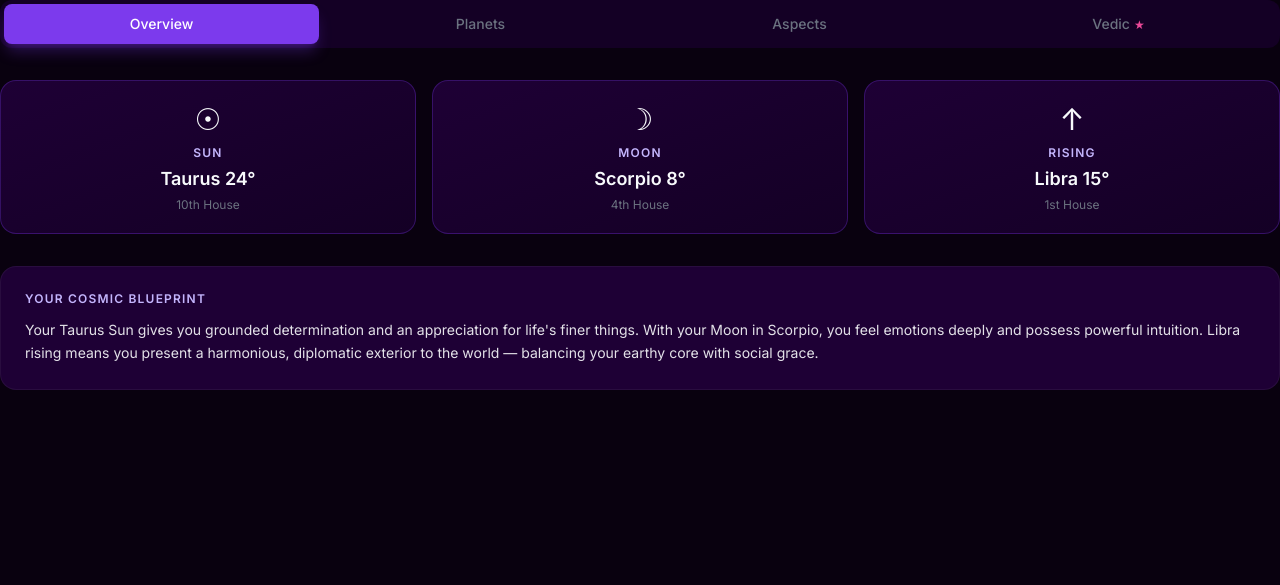
Scenario: ChartTabs › switches to Aspects tab and shows all aspect rows
The width and height of the screenshot is (1280, 585).
Click the tab "Aspects".
click(800, 24)  # box [642, 4, 957, 44]
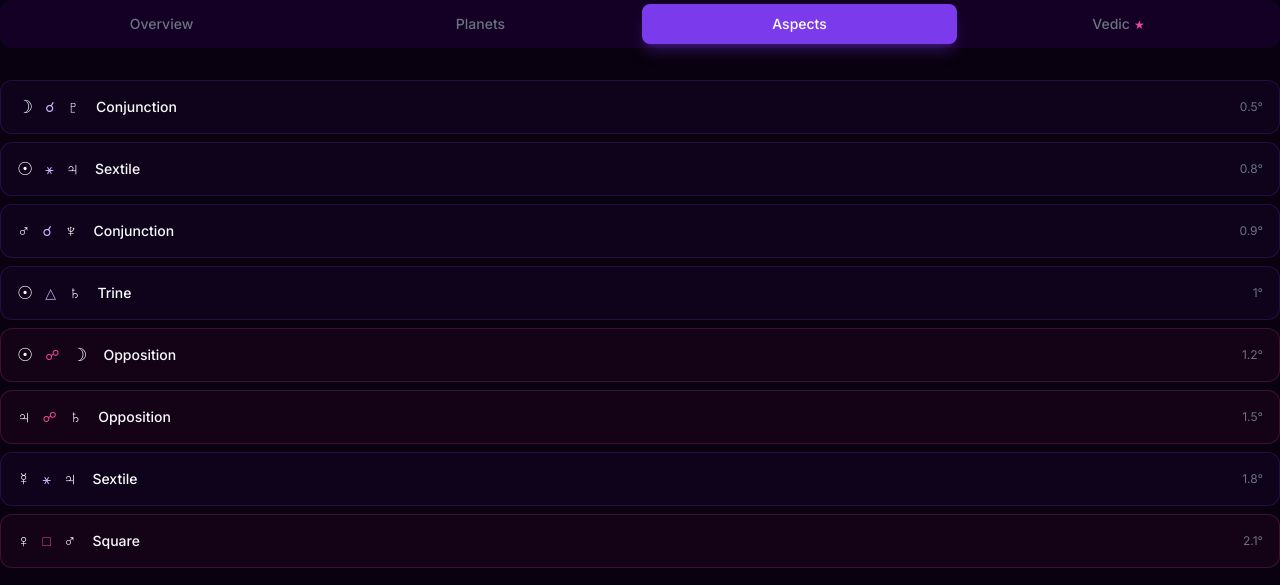
Expected: the text "Trine" is shown, [97, 283, 131, 303]
Expected: the text "0.5°" is shown 8 times
